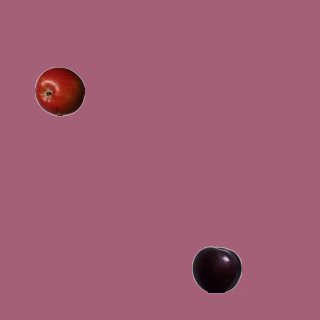Apple Braeburn: (34, 66, 84, 116)
Cherry Wax Black: (191, 244, 241, 294)
